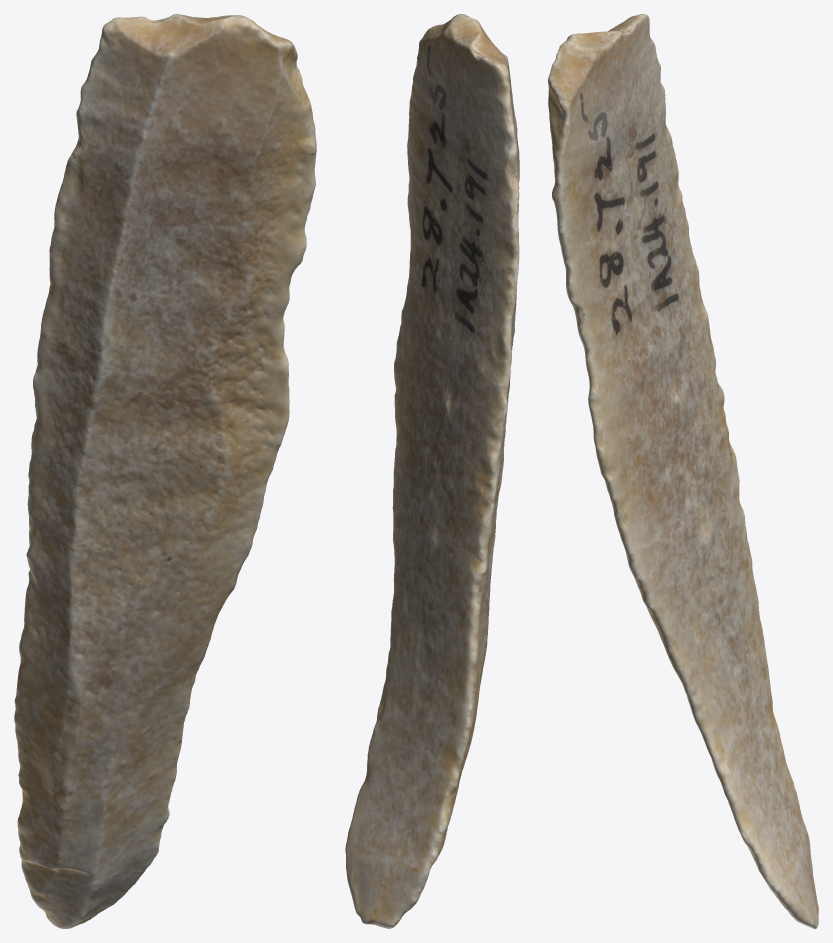
File: Artifact2.glb
3 views of the same model, side by side, from view 1: azimuth 30°, elevation 25°; view 2: azimuth 150°, elevation 25°; view 3: azimuth 270°, elevation 25° (orthographic). The views are drawn at different scales.
Bounding box in the file's own units: 0.016 × 0.0755 × 0.0207.
Materials: 1 (1 with a texture image).
